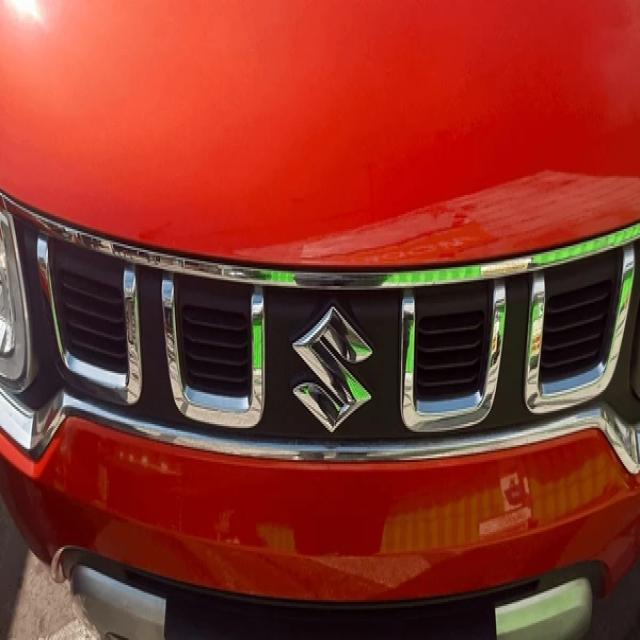seat: (290, 306, 378, 432)
